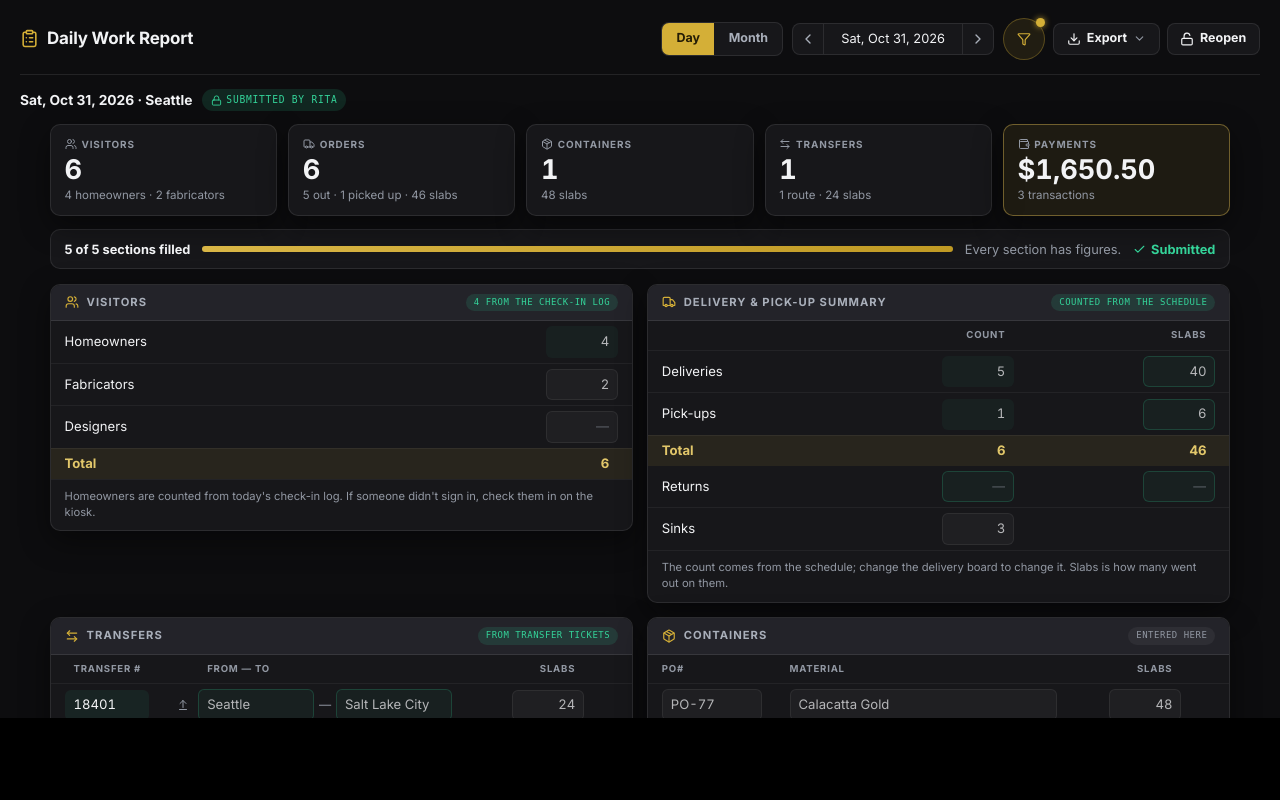
Test case: Daily Report › a submitted day is locked, with Reopen asking why
Expected: the text "Submitted by Rita" is shown, top-left (202, 89), bottom-right (346, 111)
Expected: the field named "Sinks" is disabled, top-left (942, 513), bottom-right (1014, 545)
What coordinates should you click on to do the following:
click the button "Reopen"
I would click on:
 (1213, 39)
Its box is top-left (1167, 23), bottom-right (1260, 55).
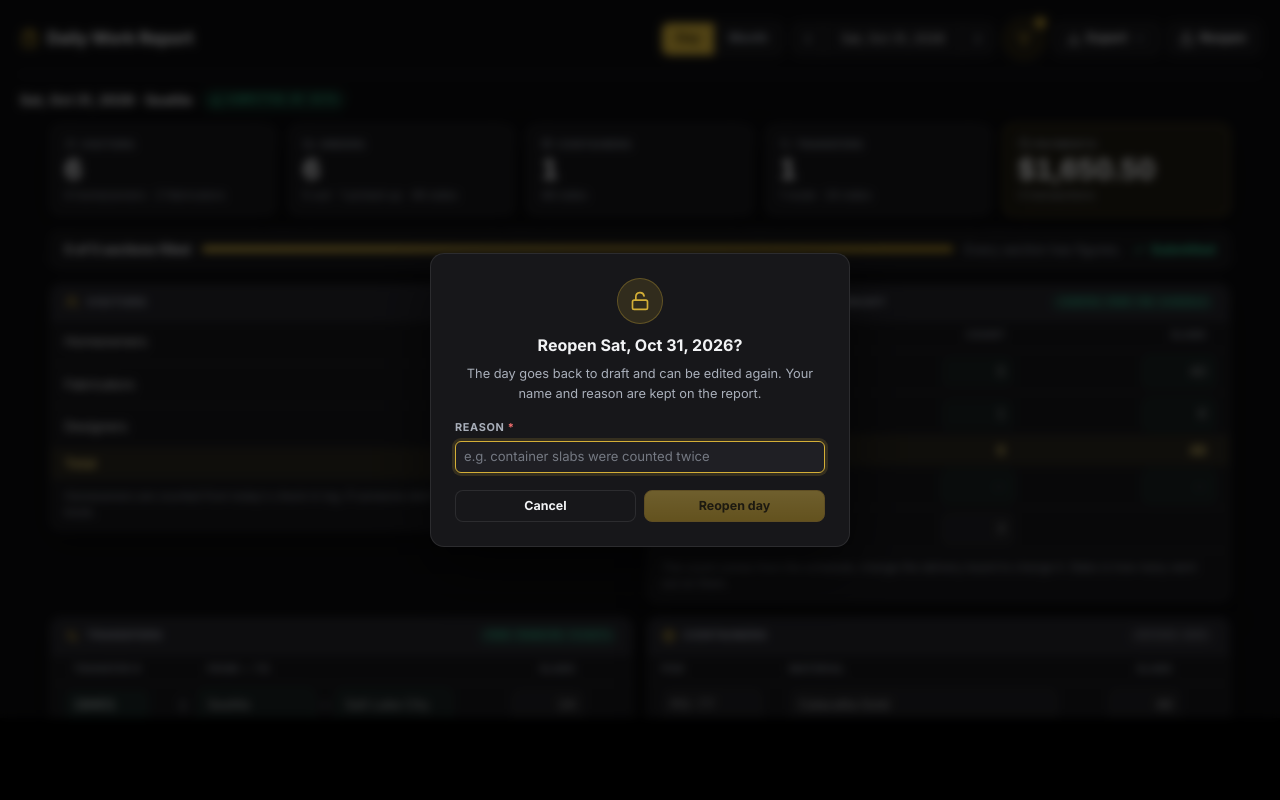
Expected: the button "Reopen day" is disabled, top-left (644, 490), bottom-right (825, 522)
